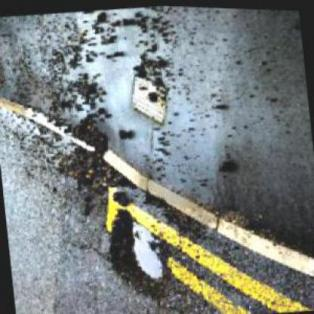Hueco: (103, 200, 174, 302)
